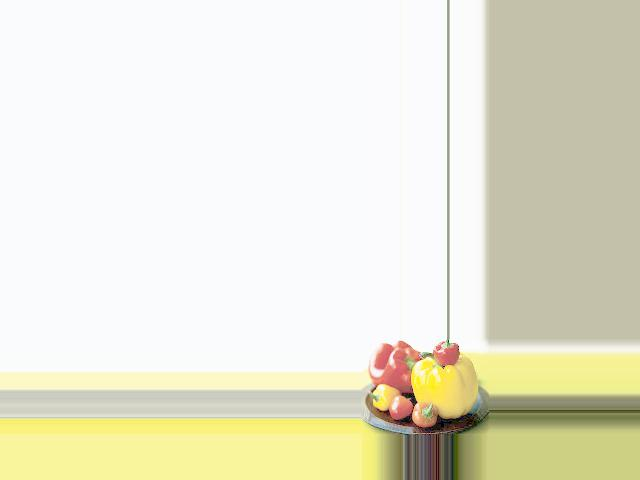bell_pepper: (369, 383, 397, 409)
